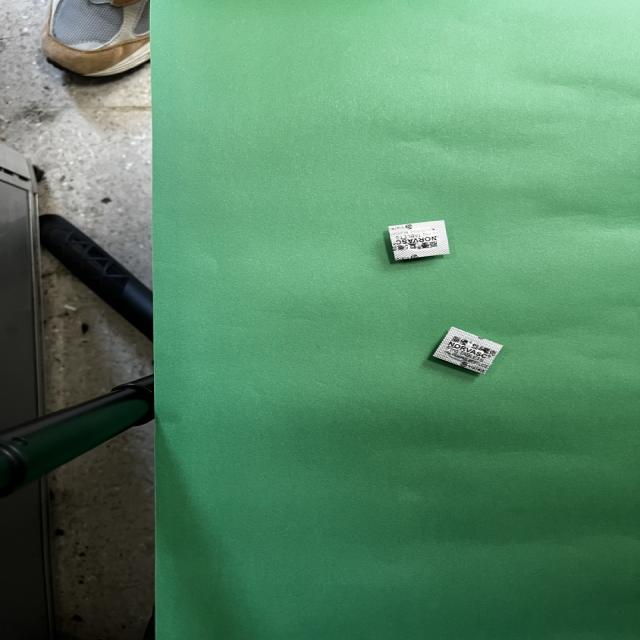Other Objects: (433, 327, 503, 374), (389, 220, 449, 260)
